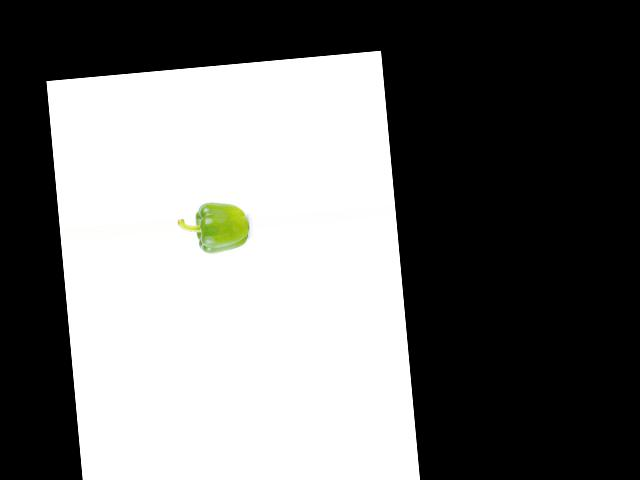bell_pepper: (177, 198, 251, 264)
